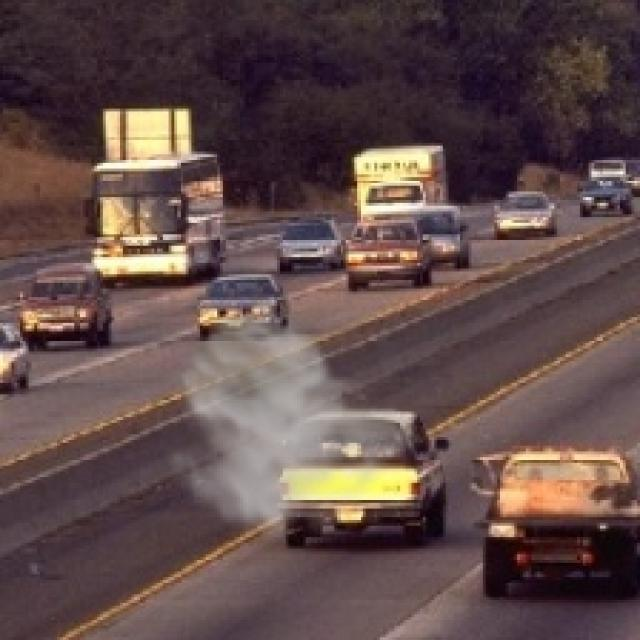smoke: (152, 294, 428, 543)
